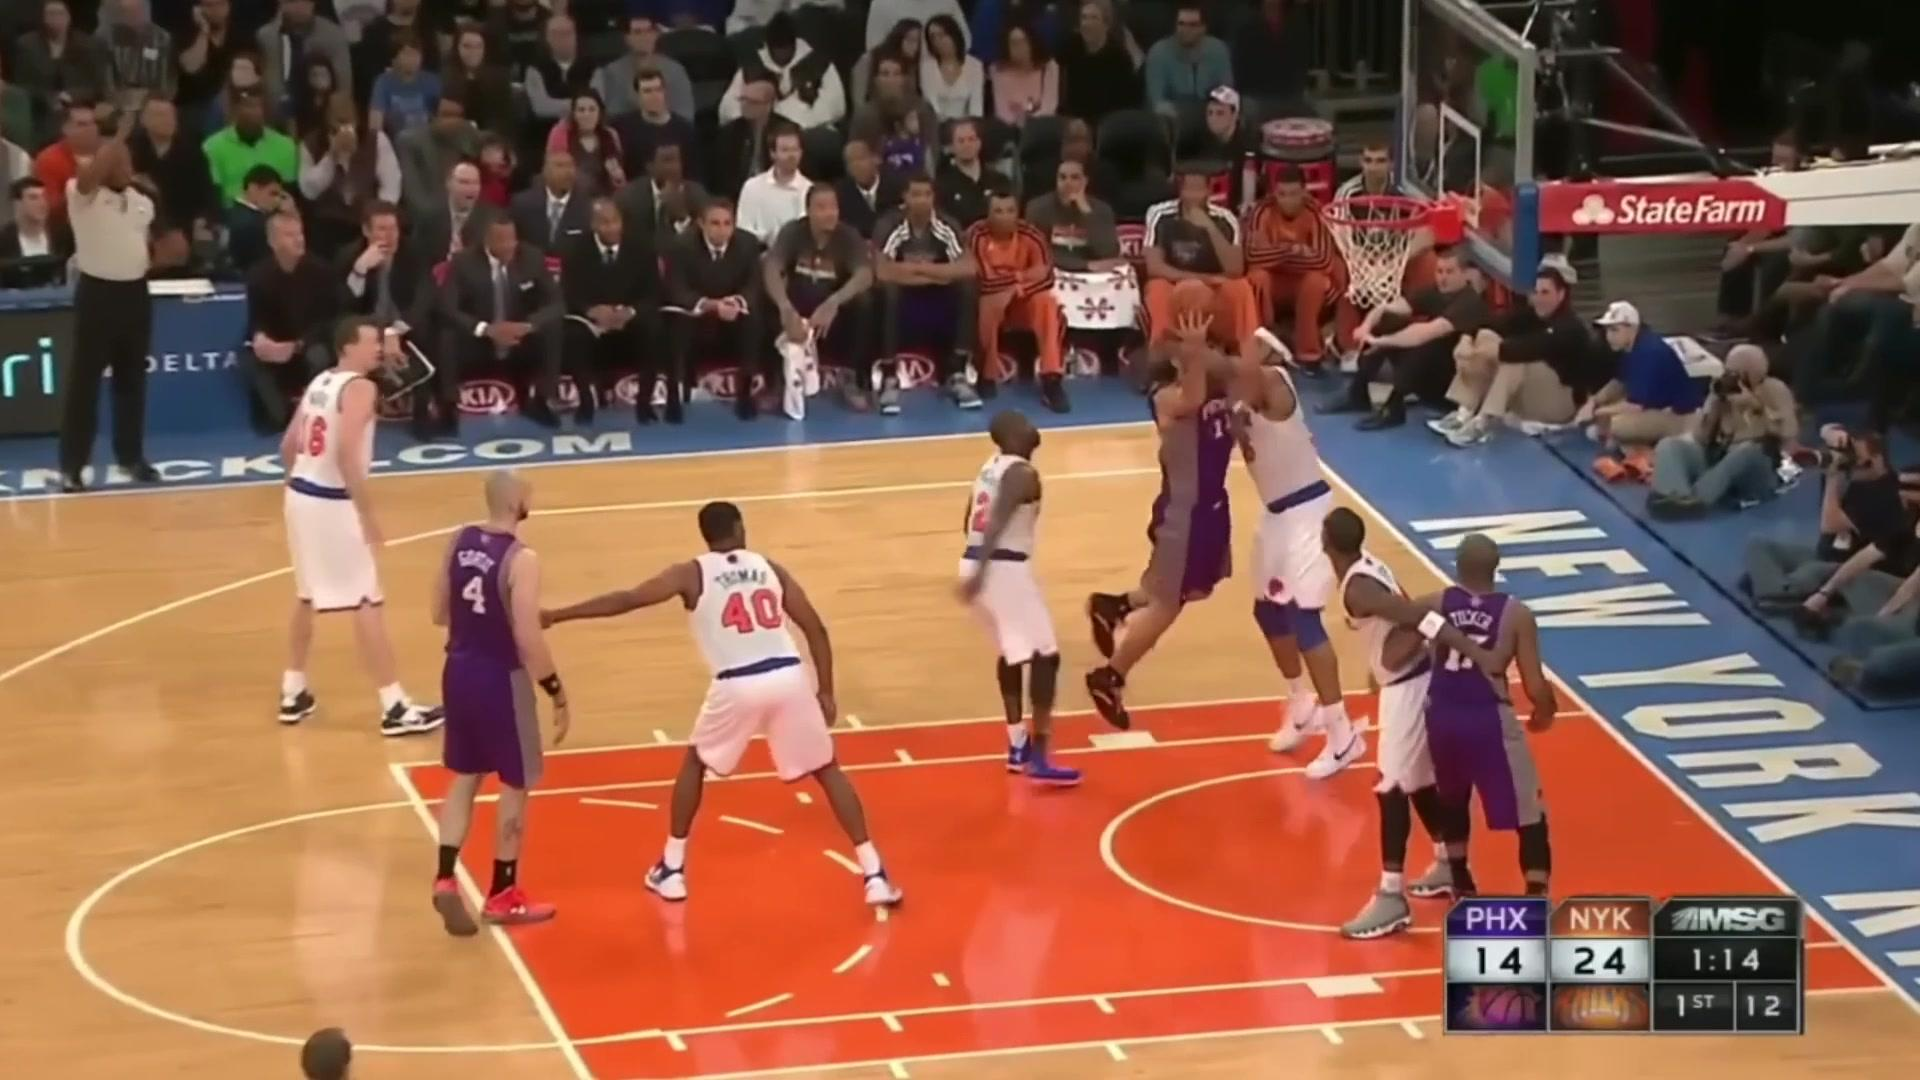foul: (1097, 291, 1344, 807)
